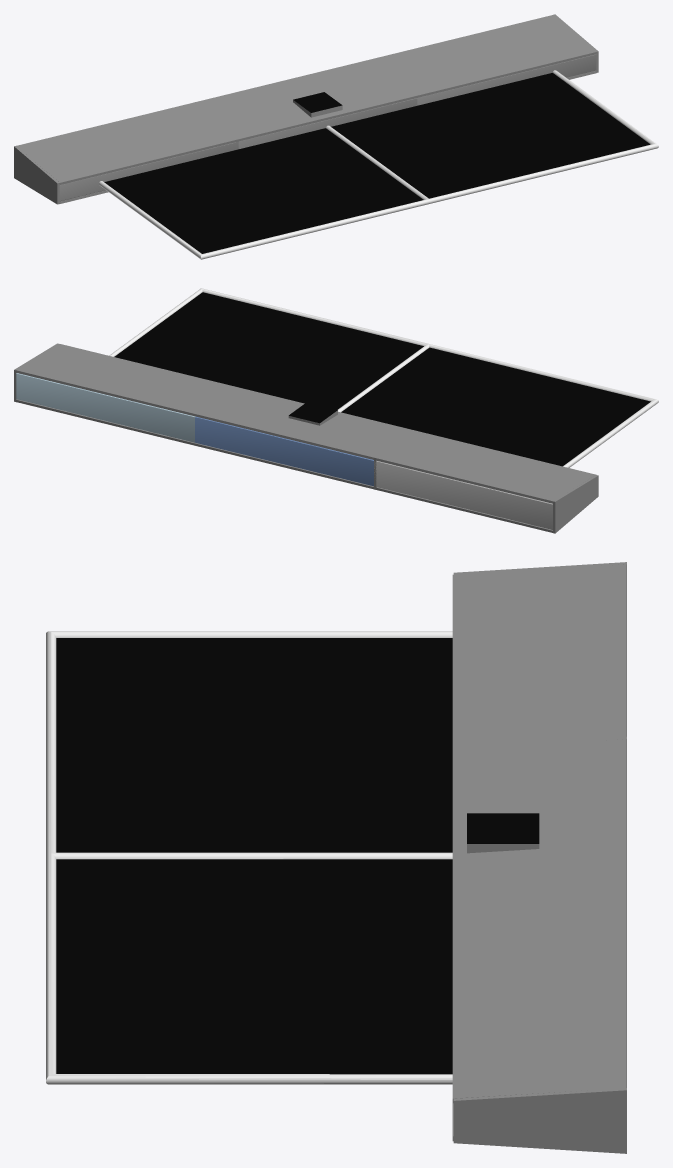
File: 2026_ARC_3v3_large_barrier_left.gltf
3 views of the same model, one above another, from view 1: azimuth 30°, elevation 25°; view 2: azimuth 150°, elevation 25°; view 3: azimuth 270°, elevation 25° (orthographic). The views are drawn at different scales.
Parts seen in each view (by area): view 1: Tall Barrier, Large Barrier, Surface 768, Surface 932, Surface 838, Large Barrier Pipe, Surface 933, Surface 773, Surface 858, Internal Wall, Surface 806; view 2: Large Barrier, Tall Barrier, Surface 768, Surface 932, Surface 838, Surface 797, Surface 863, Surface 934, Large Barrier Pipe, Internal Wall, Surface 800, Surface 866 (+2 smaller); view 3: Tall Barrier, Large Barrier, Surface 768, Surface 932, Surface 838, Large Barrier Pipe, Internal Wall, Surface 806.
Part boxes in pixels (x1=…): Tall Barrier: x1=331, y1=73, x2=650, y2=198; Large Barrier: x1=104, y1=128, x2=423, y2=253; Surface 768: x1=374, y1=15, x2=596, y2=97; Surface 932: x1=16, y1=103, x2=238, y2=184; Surface 838: x1=195, y1=58, x2=417, y2=141; Large Barrier Pipe: x1=99, y1=70, x2=658, y2=259; Surface 933: x1=59, y1=142, x2=238, y2=201; Surface 773: x1=417, y1=54, x2=596, y2=105; Surface 858: x1=238, y1=98, x2=417, y2=148; Internal Wall: x1=14, y1=146, x2=59, y2=204; Surface 806: x1=293, y1=92, x2=342, y2=112; Large Barrier: x1=341, y1=347, x2=650, y2=466; Tall Barrier: x1=114, y1=292, x2=423, y2=409; Surface 768: x1=16, y1=344, x2=238, y2=416; Surface 932: x1=376, y1=431, x2=596, y2=503; Surface 838: x1=195, y1=387, x2=417, y2=459; Surface 797: x1=16, y1=373, x2=195, y2=442; Surface 863: x1=195, y1=416, x2=373, y2=486; Surface 934: x1=374, y1=461, x2=552, y2=529; Large Barrier Pipe: x1=109, y1=288, x2=658, y2=467; Internal Wall: x1=553, y1=475, x2=598, y2=533; Surface 800: x1=16, y1=399, x2=195, y2=445; Surface 866: x1=195, y1=443, x2=373, y2=489; Tall Barrier: x1=56, y1=859, x2=452, y2=1074; Large Barrier: x1=56, y1=638, x2=452, y2=852; Surface 768: x1=452, y1=913, x2=626, y2=1103; Surface 932: x1=452, y1=564, x2=626, y2=749; Surface 838: x1=452, y1=739, x2=626, y2=923; Large Barrier Pipe: x1=46, y1=631, x2=452, y2=1084; Internal Wall: x1=453, y1=1088, x2=626, y2=1153; Surface 806: x1=467, y1=813, x2=539, y2=843.
Bounding box in the file's own units: 3.03 × 0.1701 × 1.41.
